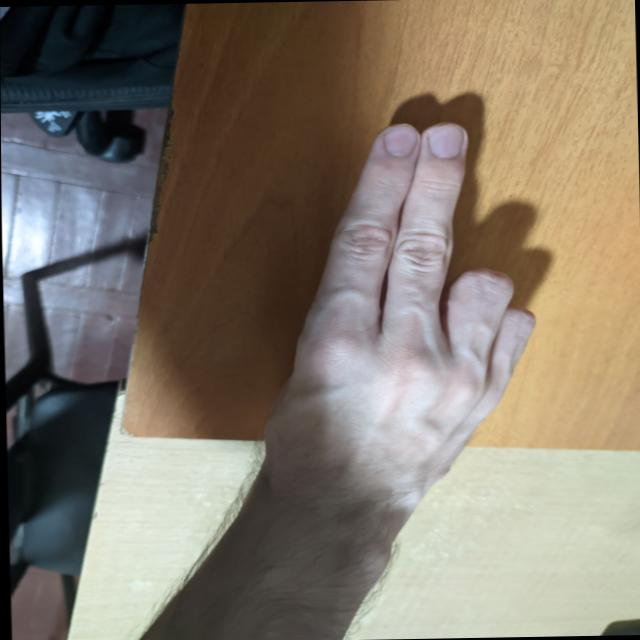p: (240, 114, 572, 488)
